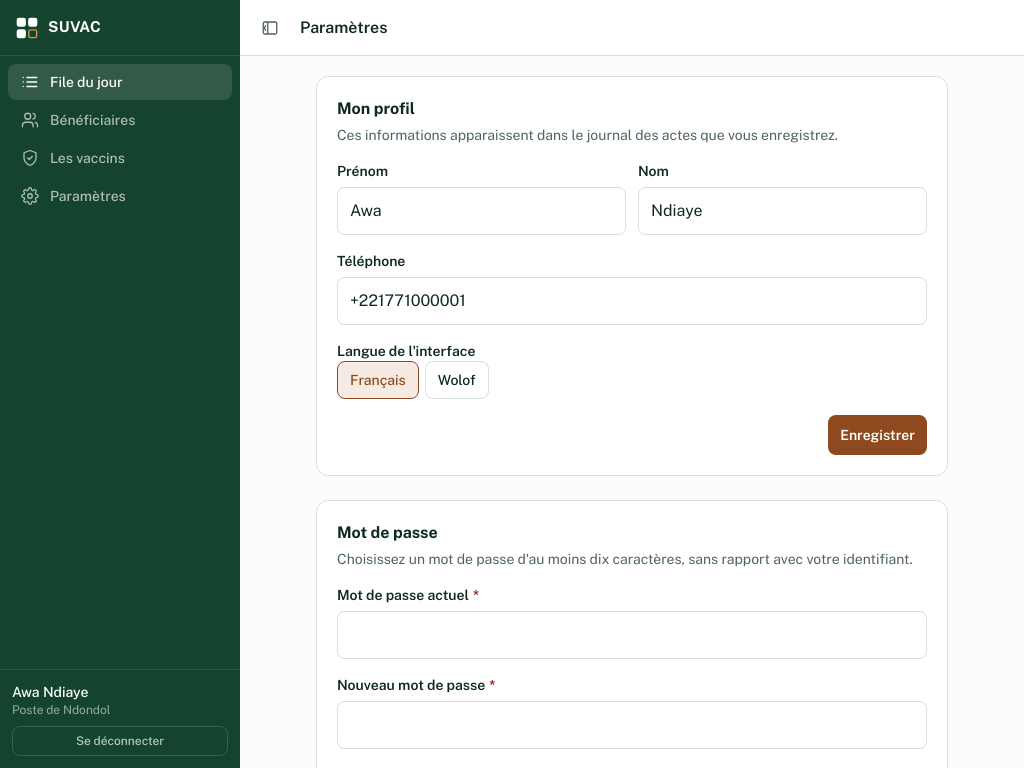
it: Parametres › confirme le changement de mot de passe
Type "ancien" into the password field labelled "Mot de passe actuel*" at (632, 635), box [337,611,927,659]
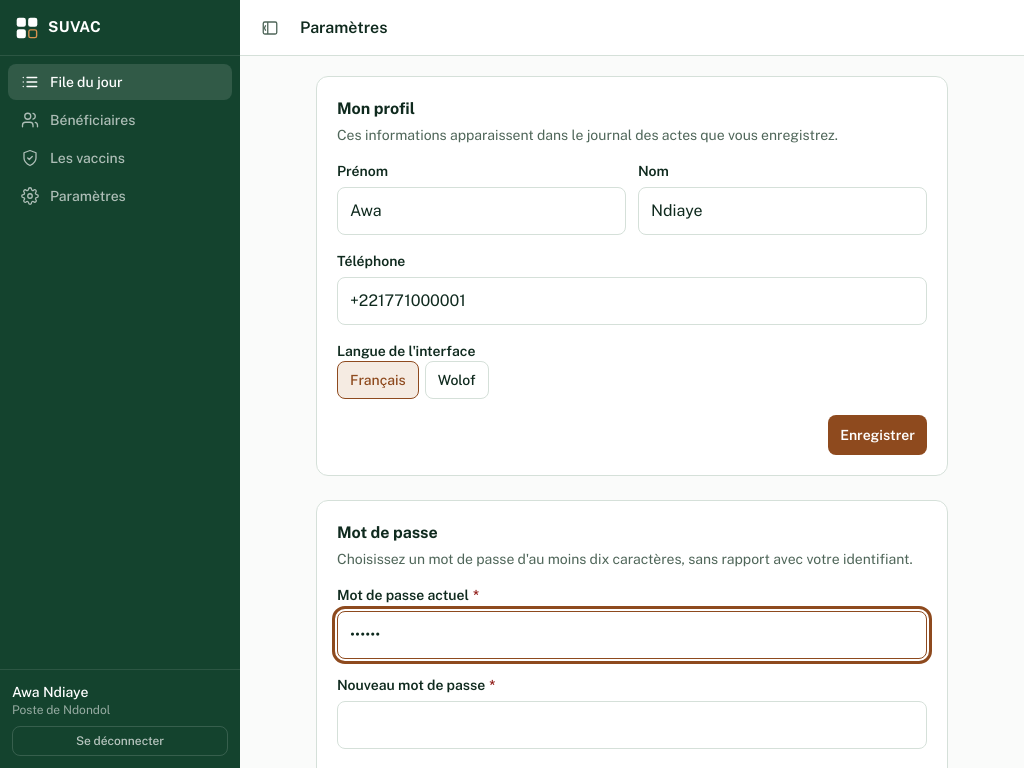
Type "abcdefghij" into the password field labelled "Nouveau mot de passe*" at (632, 725), box [337,701,927,749]
(page scrolled)
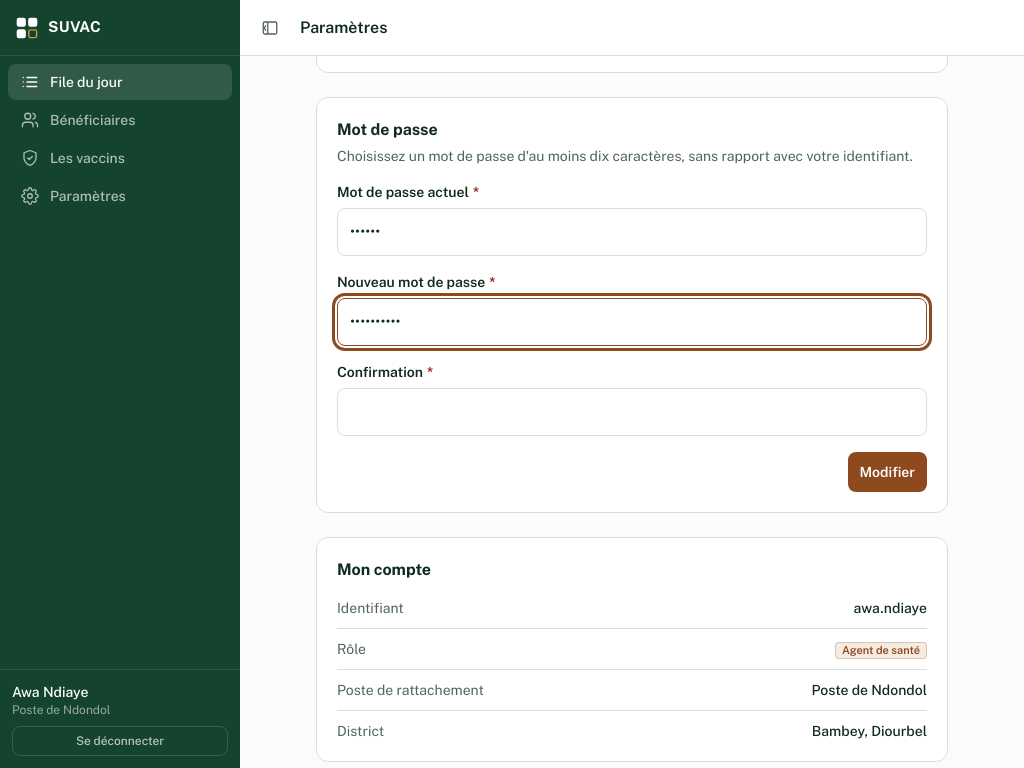
Type "abcdefghij" into the password field labelled "Confirmation*" at (632, 412), box [337,388,927,436]
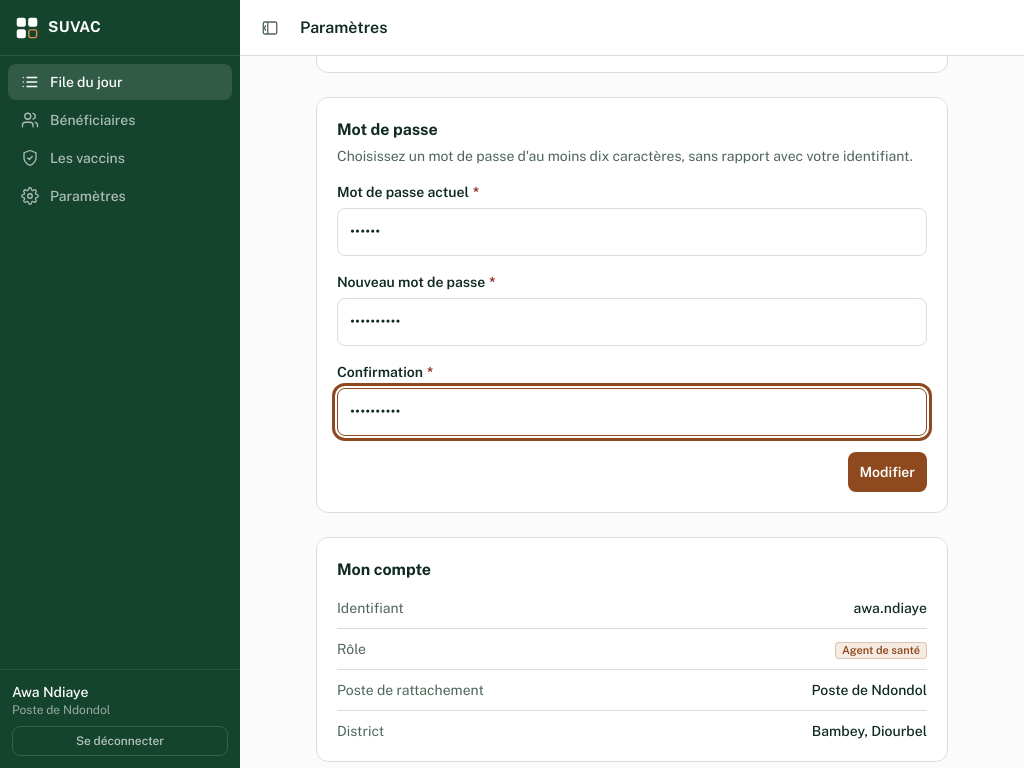
Click the button "Modifier" at (887, 472), box [848,452,927,492]
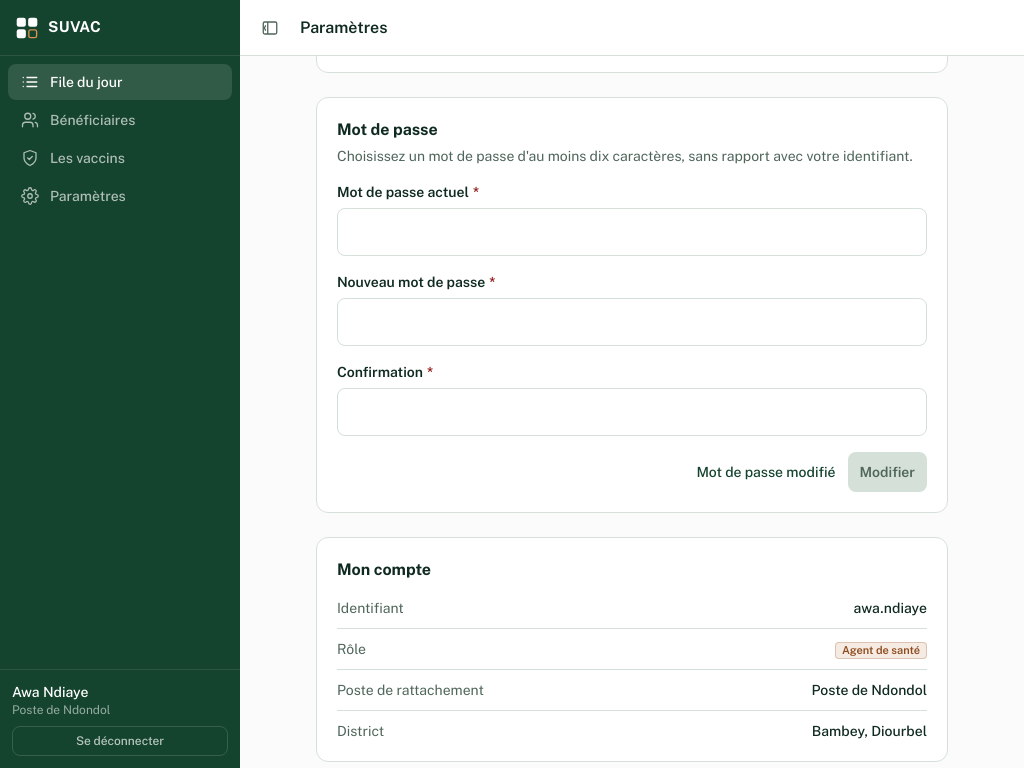
expect the text "Mot de passe modifié" is shown: met, box [696,462,836,482]
